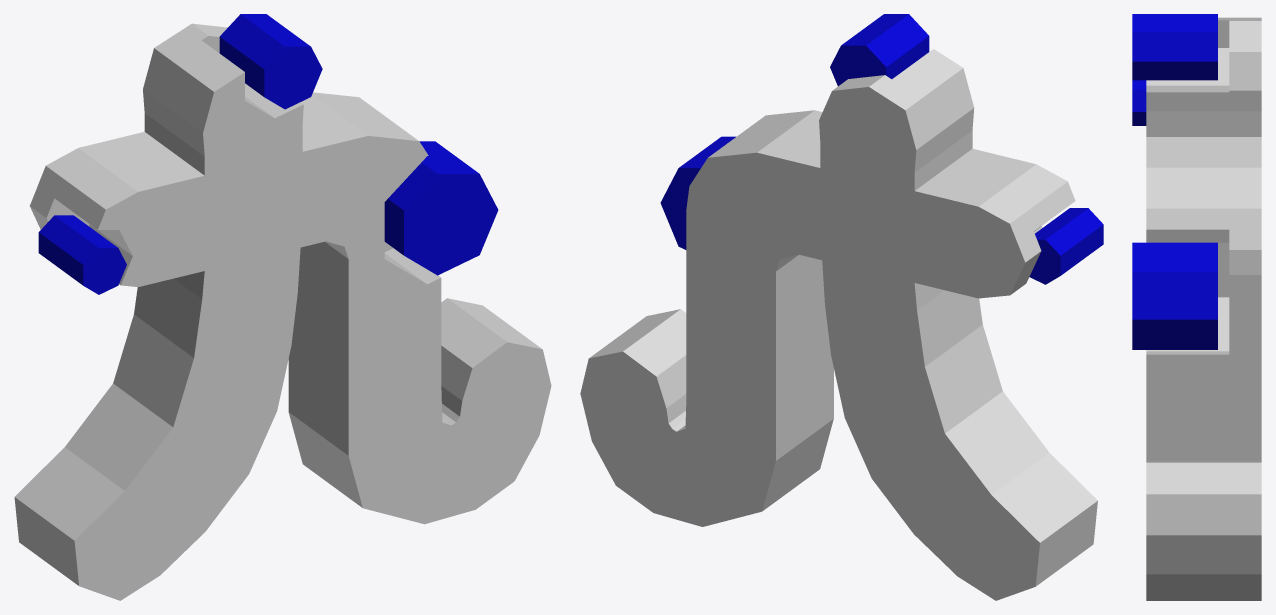
The model's file is Ch_Lite_China_九_01.fbx.
The picture shows the model from 3 angles, left to right: view 1: azimuth 30°, elevation 25°; view 2: azimuth 150°, elevation 25°; view 3: azimuth 270°, elevation 25°; orthographic projection. The views are drawn at different scales.
Parts seen in each view (by area): view 1: sphere1; view 2: sphere1; view 3: sphere1.
Part boxes in pixels (x1,y1,x2,y2): sphere1: (14,14,551,600); sphere1: (580,14,1103,600); sphere1: (1132,14,1261,600).
Size of the model in its own units: 0.916 by 0.9564 by 0.2242.
